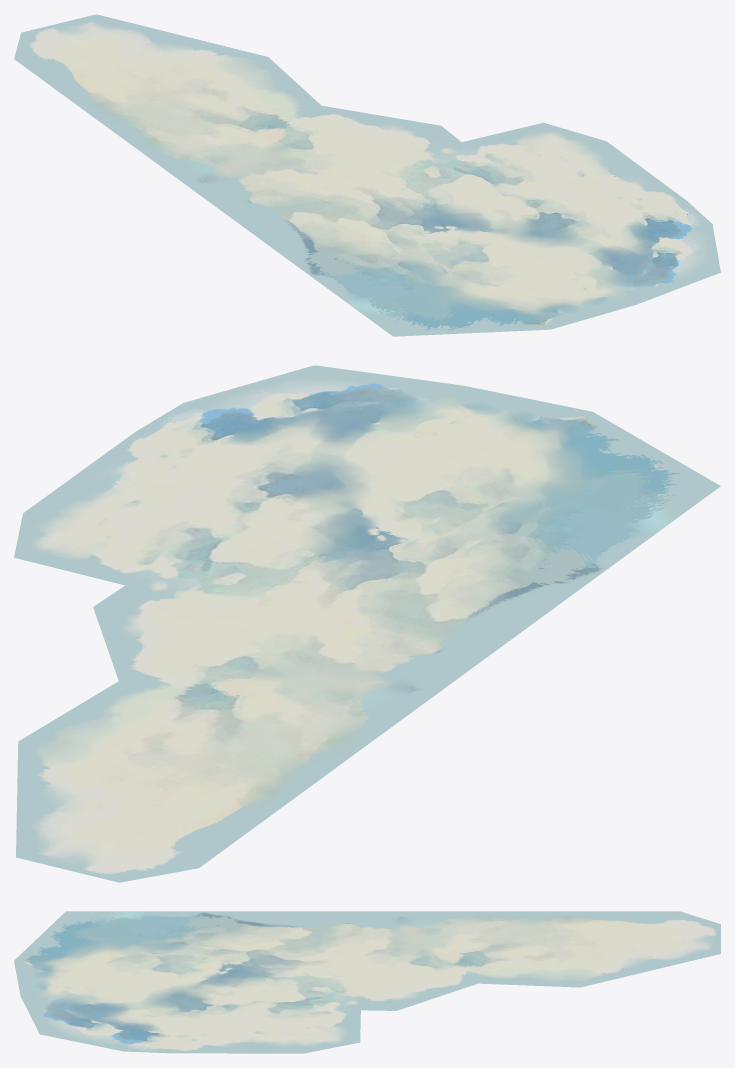
The model's file is SM_Cloud_01.fbx.
3 views of the same model, one above another, from view 1: azimuth 30°, elevation 25°; view 2: azimuth 150°, elevation 25°; view 3: azimuth 270°, elevation 25° (orthographic). The views are drawn at different scales.
Parts seen in each view (by area): view 1: SM_Cloud_01_LOD0; view 2: SM_Cloud_01_LOD0; view 3: SM_Cloud_01_LOD0.
Boxes of the visible parts, x1,y1,x2,y2 form: SM_Cloud_01_LOD0: (14,14,720,336); SM_Cloud_01_LOD0: (14,365,720,882); SM_Cloud_01_LOD0: (14,911,720,1053).
Size of the model in its own units: 484 by 1016 by 5.89e-06.
1 material, 1 textured.
